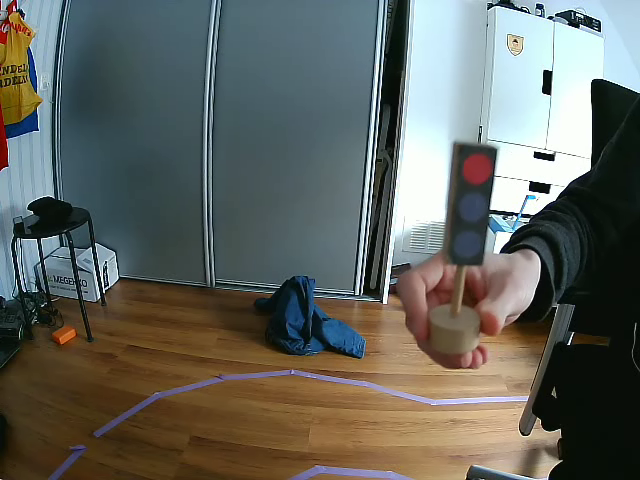roodlicht: (446, 145, 498, 263)
